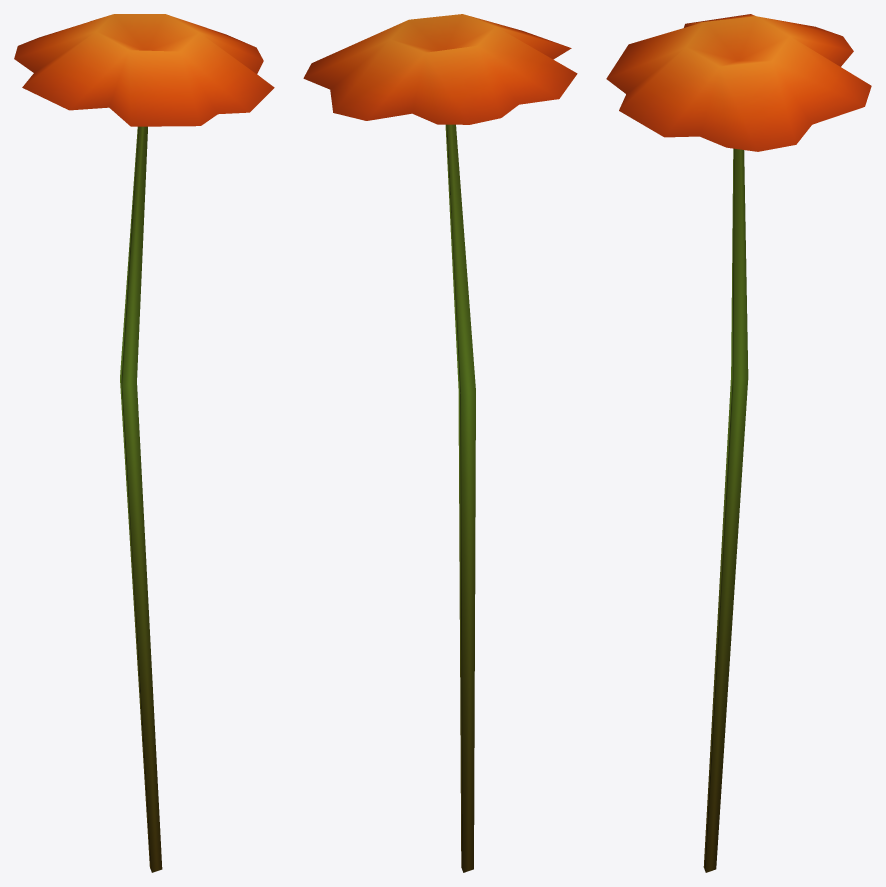
File: Flower_3B.fbx
3 views of the same model, side by side, from view 1: azimuth 30°, elevation 25°; view 2: azimuth 150°, elevation 25°; view 3: azimuth 270°, elevation 25° (orthographic). The views are drawn at different scales.
Parts seen in each view (by area): view 1: Flower_3B; view 2: Flower_3B; view 3: Flower_3B.
Part boxes in pixels (x1=…): Flower_3B: x1=14, y1=14, x2=274, y2=872; Flower_3B: x1=303, y1=14, x2=577, y2=872; Flower_3B: x1=606, y1=14, x2=871, y2=872.
Bounding box in the file's own units: 19.49 × 64.88 × 18.67.
